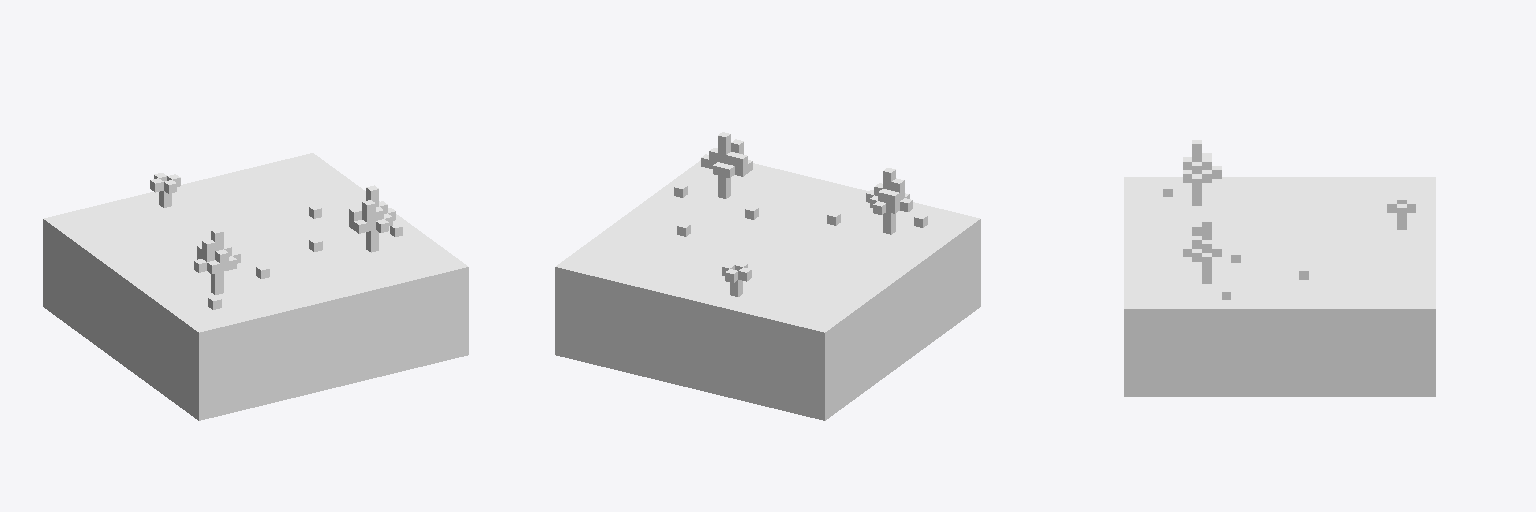
The model's file is Overworld_Beach_10.obj.
The picture shows the model from 3 angles: view 1: azimuth 30°, elevation 25°; view 2: azimuth 150°, elevation 25°; view 3: azimuth 270°, elevation 25°; orthographic projection.
Visible parts, largest first — view 1: object 1; view 2: object 1; view 3: object 1.
Boxes of the visible parts, <box> form: object 1: <box>43,153,468,420</box>; object 1: <box>555,132,980,420</box>; object 1: <box>1124,140,1435,396</box>.
Bounding box in the file's own units: 3.2 × 1.7 × 3.2.